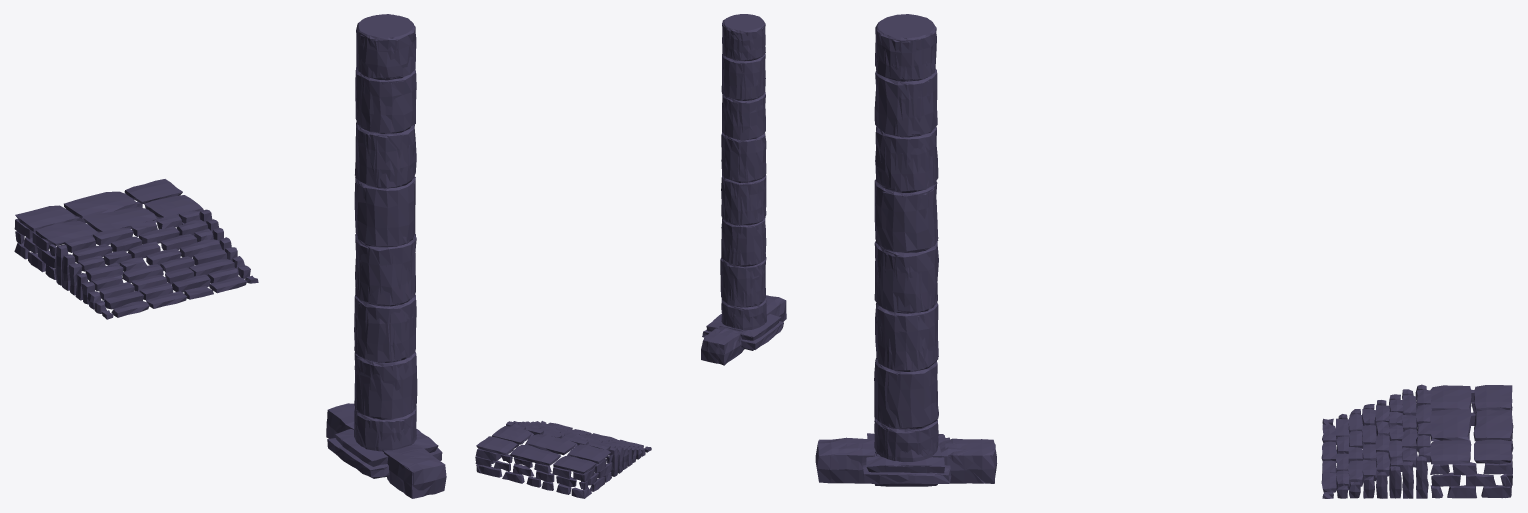
File: PedrasLobby1.glb
3 renders of one model, left to right at view 1: azimuth 30°, elevation 25°; view 2: azimuth 150°, elevation 25°; view 3: azimuth 270°, elevation 25°, orthographic. The views are drawn at different scales.
Parts seen in each view (by area): view 1: Fuste_1, Escadaria_1, Fuste_2, PlataformaDoAltar_1, Fuste_3, Arco_2, Arco_1, Capitel_3, Arco_3; view 2: Fuste_2, PlataformaDoAltar_1, Fuste_3, Fuste_1, Escadaria_1, Arco_1, Arco_2, Arco_3; view 3: Fuste_1, Fuste_2, Escadaria_1, PlataformaDoAltar_1, Fuste_3, Arco_2, Arco_1, Capitel_2.
Boxes of the visible parts, x1,y1,x2,y2 form: Fuste_1: [354, 14, 417, 451]; Escadaria_1: [55, 209, 258, 319]; Fuste_2: [354, 14, 416, 444]; PlataformaDoAltar_1: [14, 179, 203, 279]; Fuste_3: [354, 14, 416, 450]; Arco_2: [350, 425, 446, 494]; Arco_1: [327, 403, 431, 498]; Capitel_3: [335, 429, 438, 478]; Arco_3: [326, 403, 416, 498]; Fuste_2: [720, 14, 766, 330]; PlataformaDoAltar_1: [475, 426, 613, 498]; Fuste_3: [721, 14, 766, 329]; Fuste_1: [721, 14, 766, 327]; Escadaria_1: [506, 421, 651, 476]; Arco_1: [701, 300, 786, 364]; Arco_2: [701, 295, 783, 363]; Arco_3: [707, 299, 785, 365]; Fuste_1: [874, 14, 938, 460]; Fuste_2: [875, 14, 938, 461]; Escadaria_1: [1321, 384, 1431, 498]; PlataformaDoAltar_1: [1429, 385, 1513, 498]; Fuste_3: [874, 15, 938, 460]; Arco_2: [815, 437, 997, 483]; Arco_1: [823, 438, 996, 483]; Capitel_2: [866, 435, 945, 486].
Size of the model in its own units: 34.26 by 93.17 by 131.
